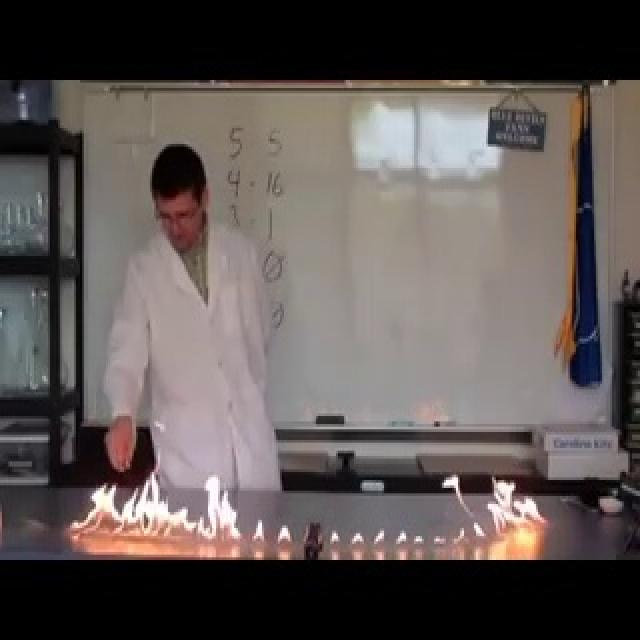fire: (68, 470, 245, 546)
